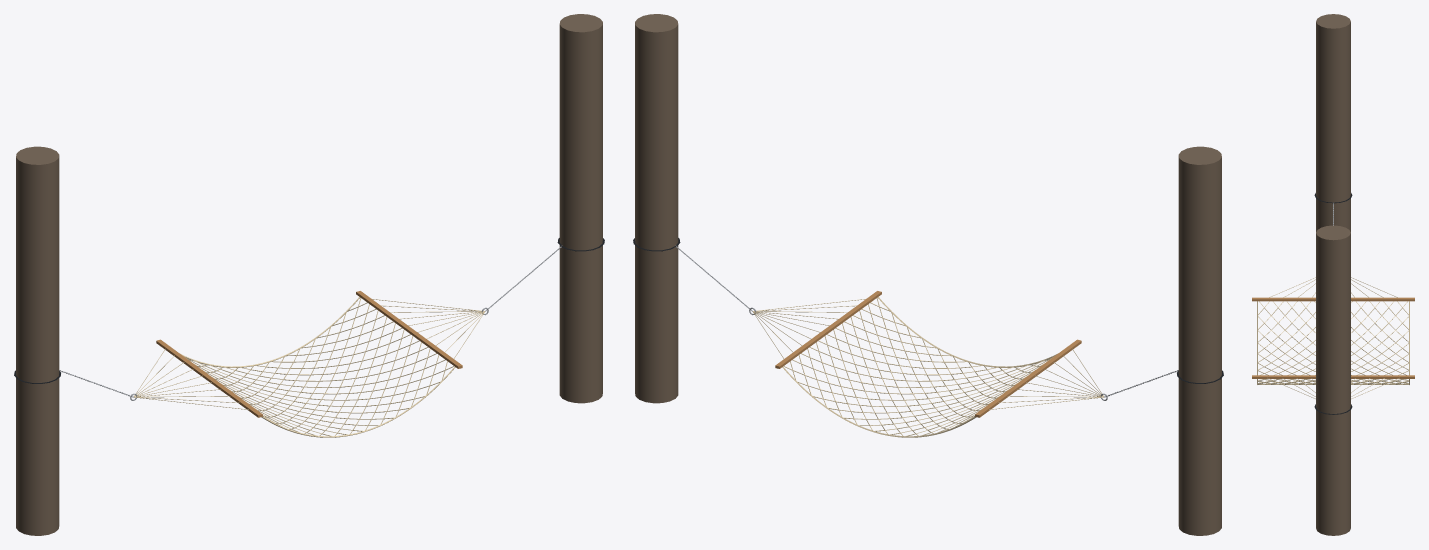
The model's file is hammock_spreader_rope.glb.
3 views of the same model, side by side, from view 1: azimuth 30°, elevation 25°; view 2: azimuth 150°, elevation 25°; view 3: azimuth 270°, elevation 25° (orthographic). The views are drawn at different scales.
Parts seen in each view (by area): view 1: hammock_spreader_rope, bed_hammock_spreader_rope; view 2: hammock_spreader_rope, bed_hammock_spreader_rope; view 3: hammock_spreader_rope, bed_hammock_spreader_rope.
Part boxes in pixels (<box>): hammock_spreader_rope: <box>14,14,604,535</box>; bed_hammock_spreader_rope: <box>59,245,562,437</box>; hammock_spreader_rope: <box>633,14,1223,535</box>; bed_hammock_spreader_rope: <box>675,245,1178,437</box>; hammock_spreader_rope: <box>1314,14,1352,535</box>; bed_hammock_spreader_rope: <box>1252,203,1414,398</box>.
Size of the model in its own units: 4.95 by 3 by 1.5.
